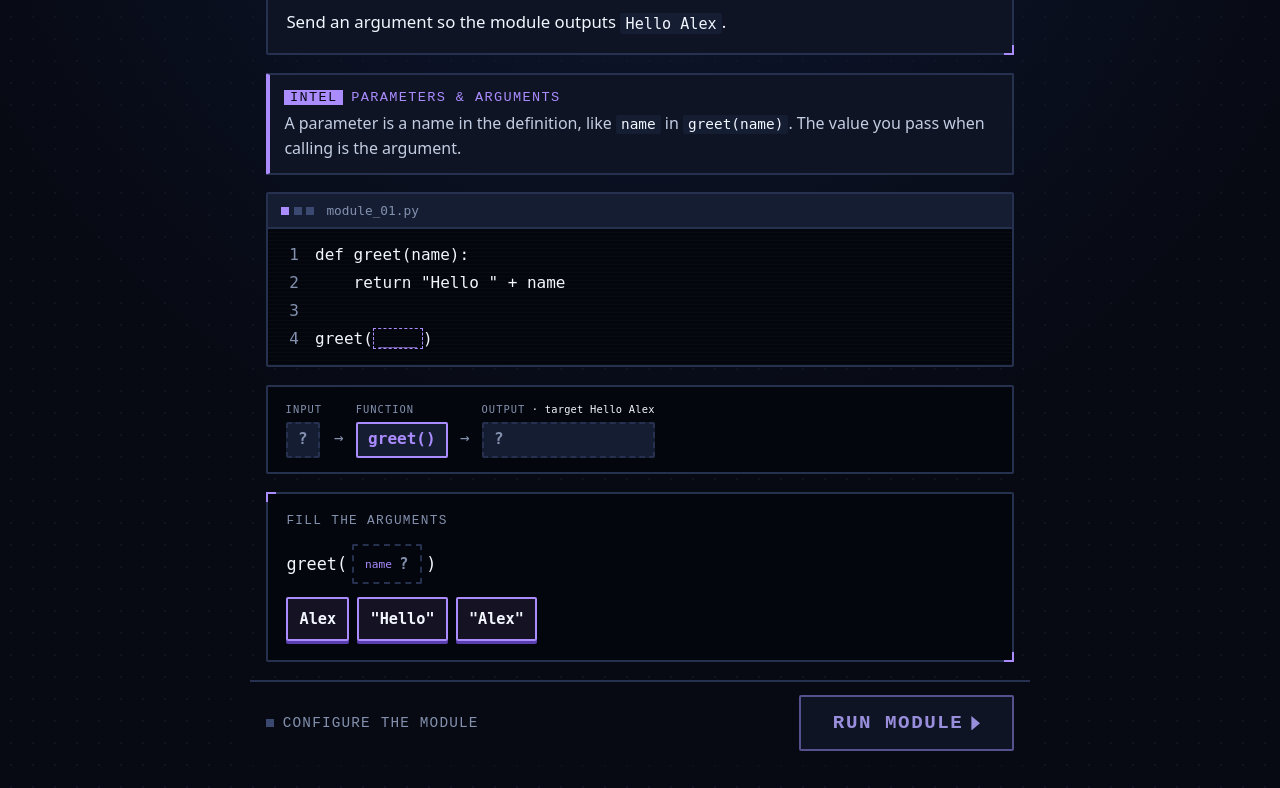
Test case: FunctionForgeScreen › accepts the right argument and outputs the target
This screenshot has width=1280, height=788.
(page scrolled)
Click the button "\"Alex\"".
click(496, 619)  # box top-left (456, 597), bottom-right (537, 641)
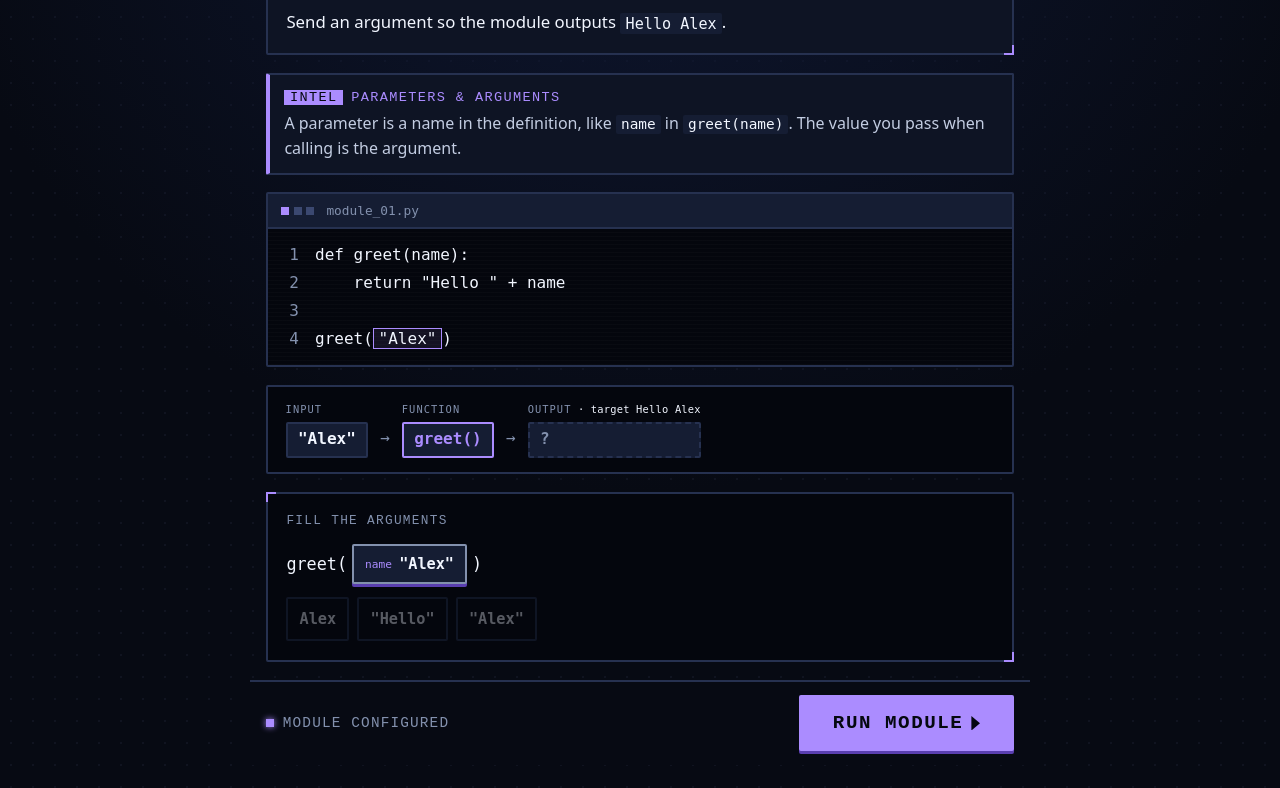
Click the button "Run module".
click(906, 723)  # box top-left (799, 695), bottom-right (1014, 751)
(page scrolled)
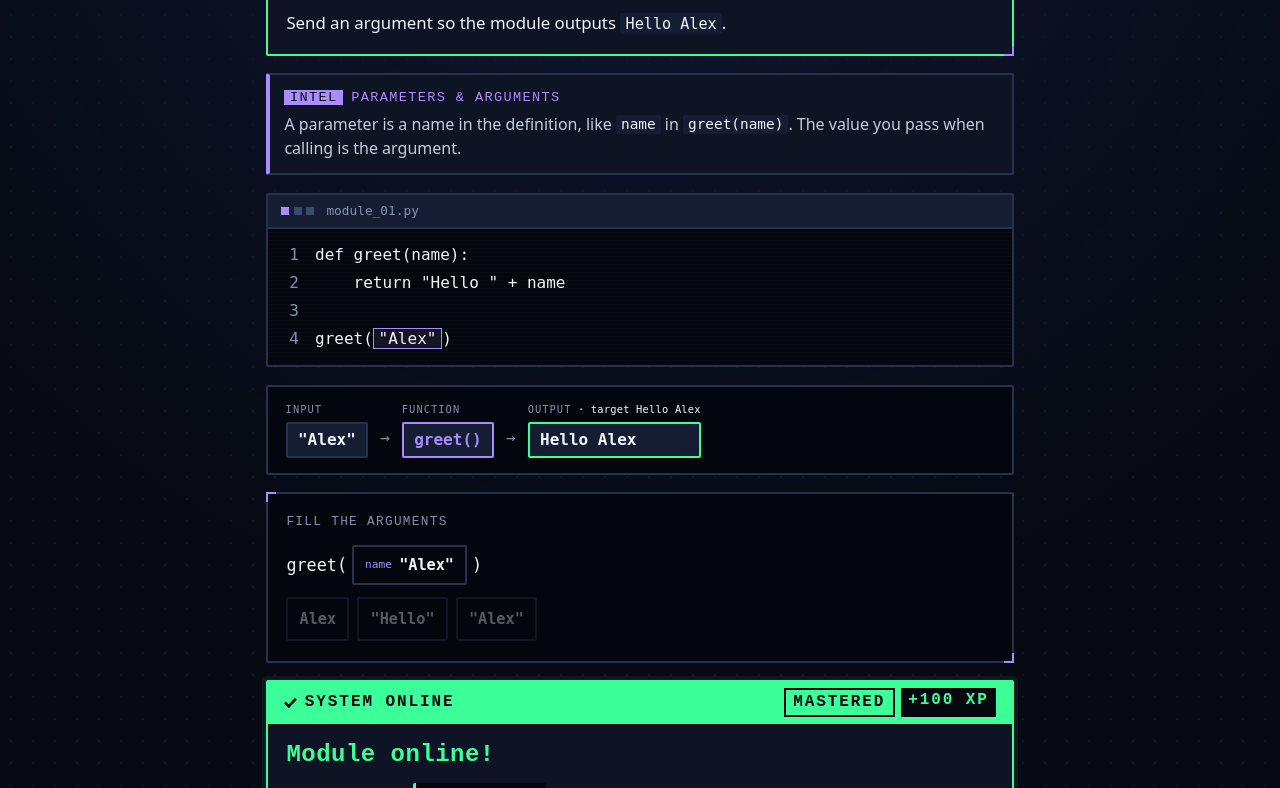
Expected: the element named "greet pipeline: \"Alex\" → Hello Alex" is shown, top-left (266, 385), bottom-right (1014, 475)
Expected: the text "+100 XP" is shown, top-left (901, 688), bottom-right (996, 717)
